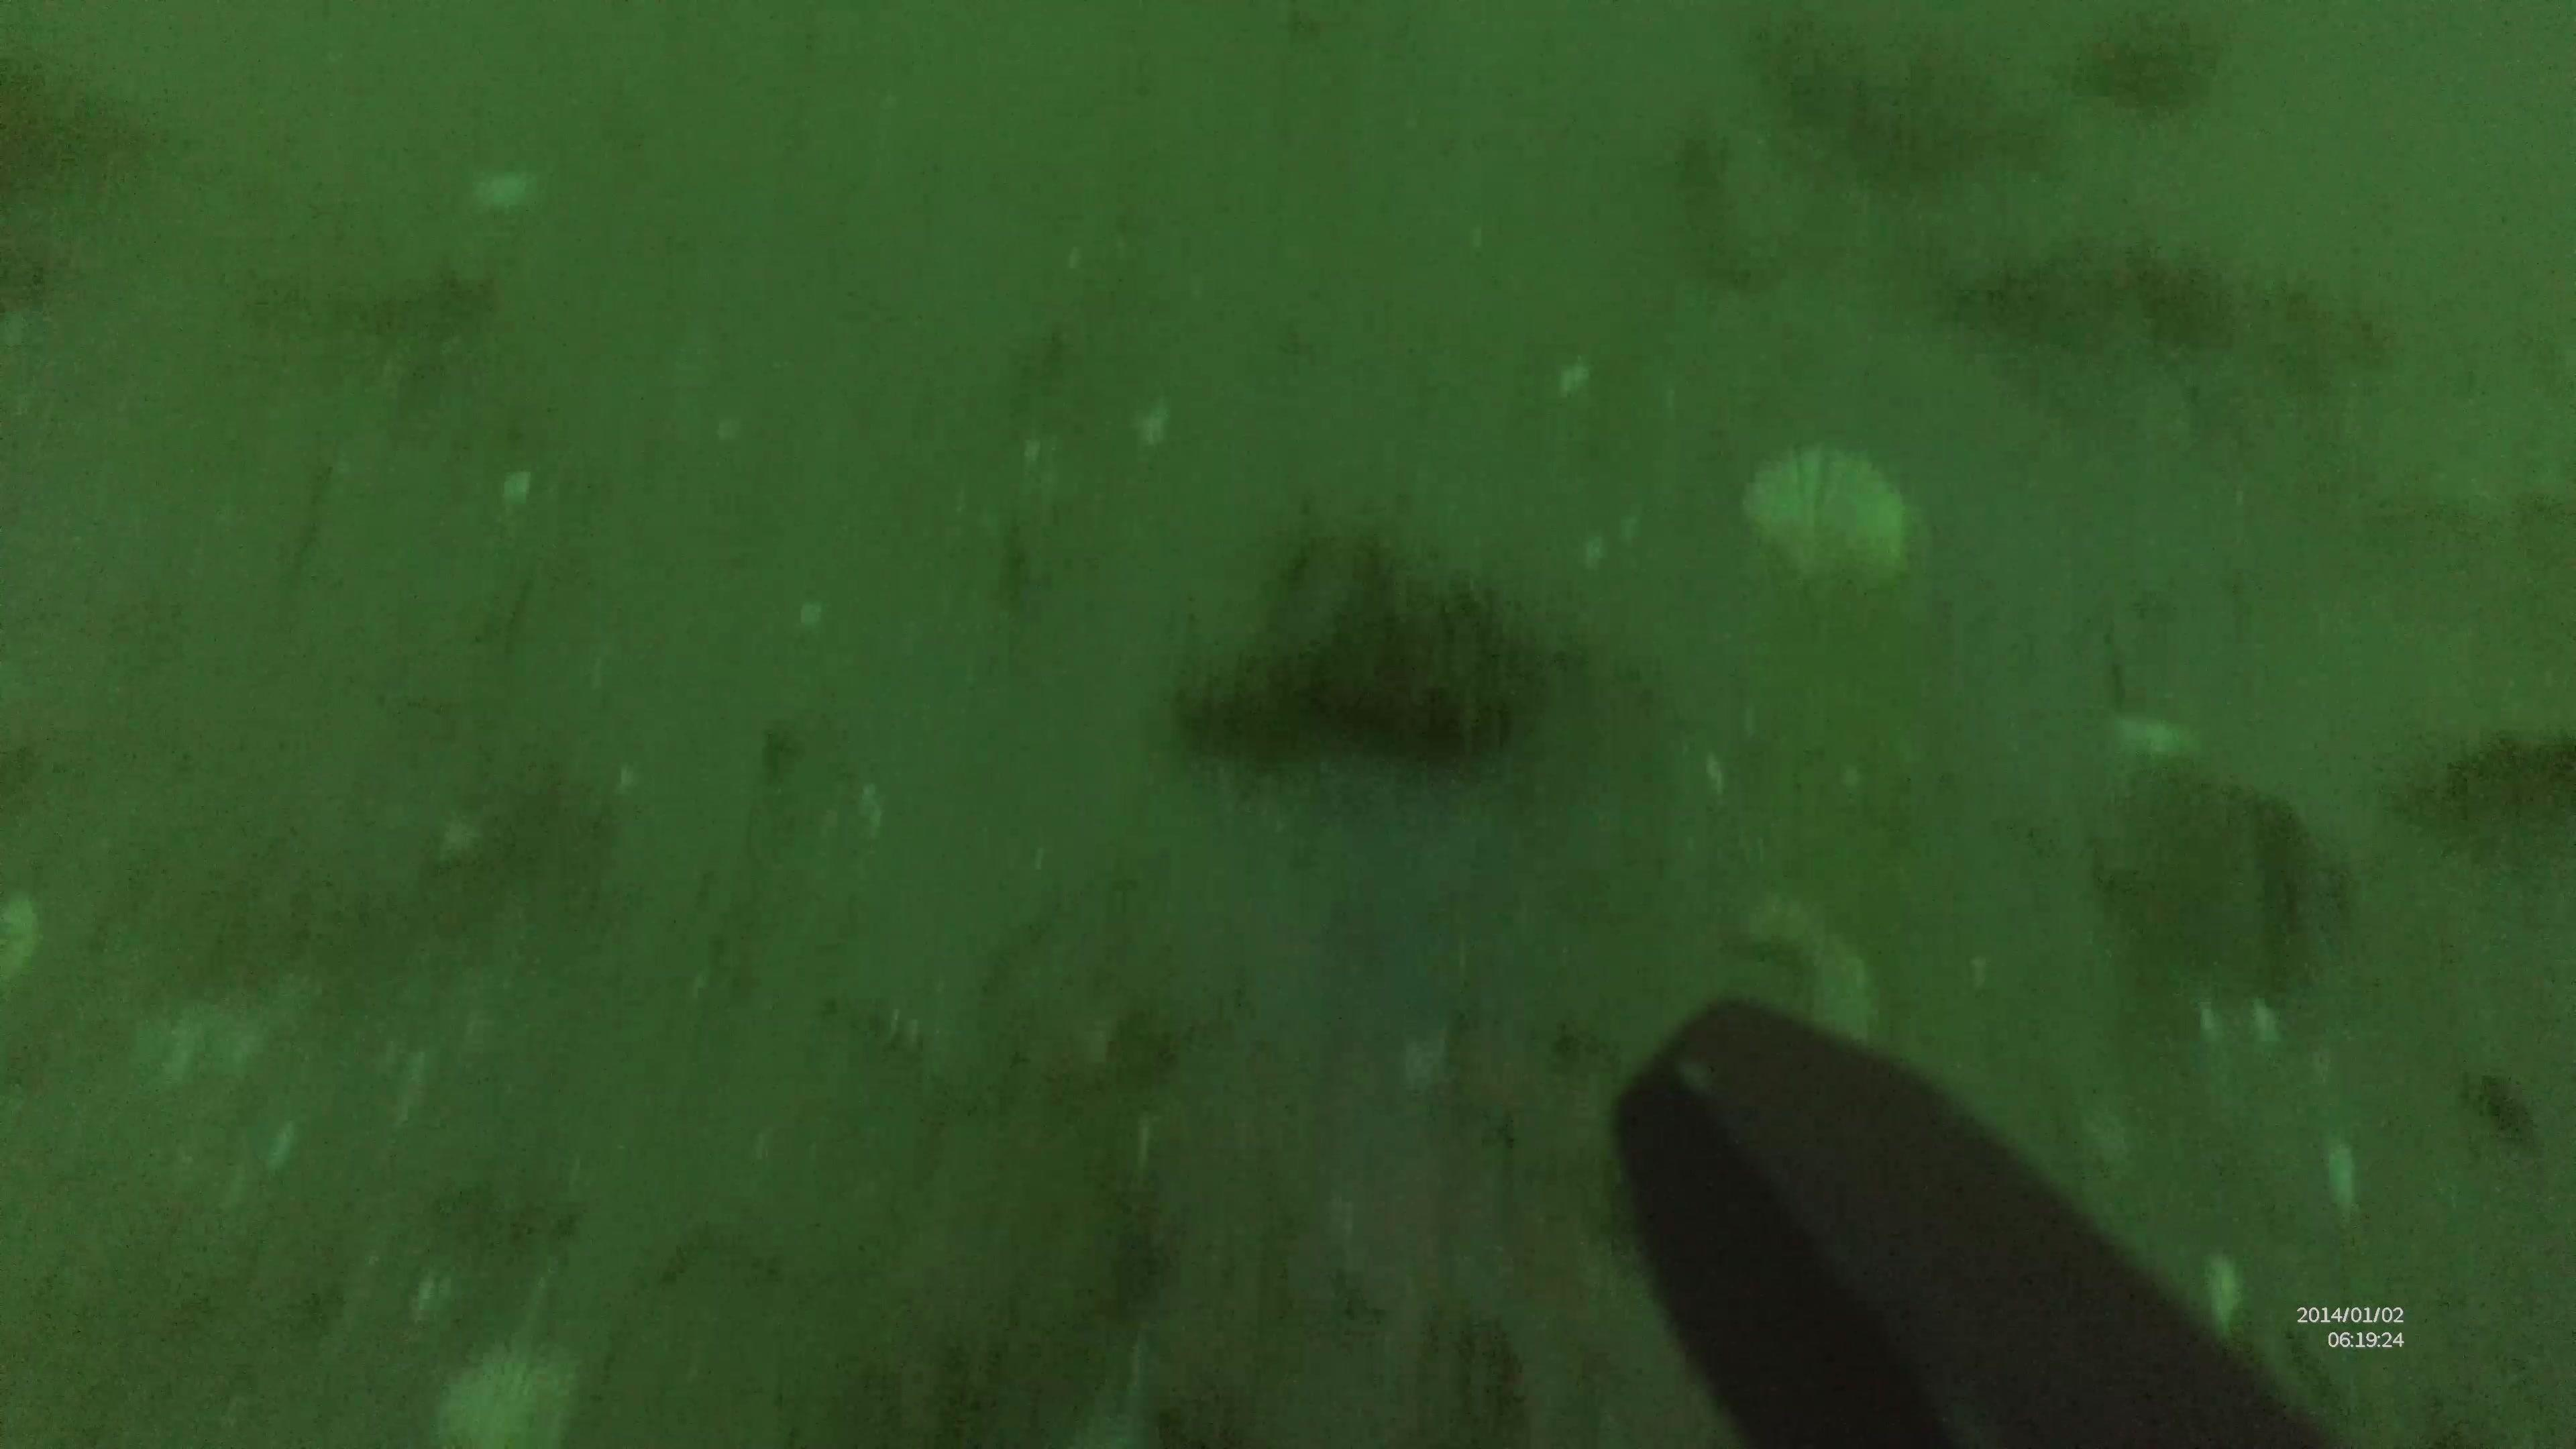scallop: (1752, 446, 1920, 594)
